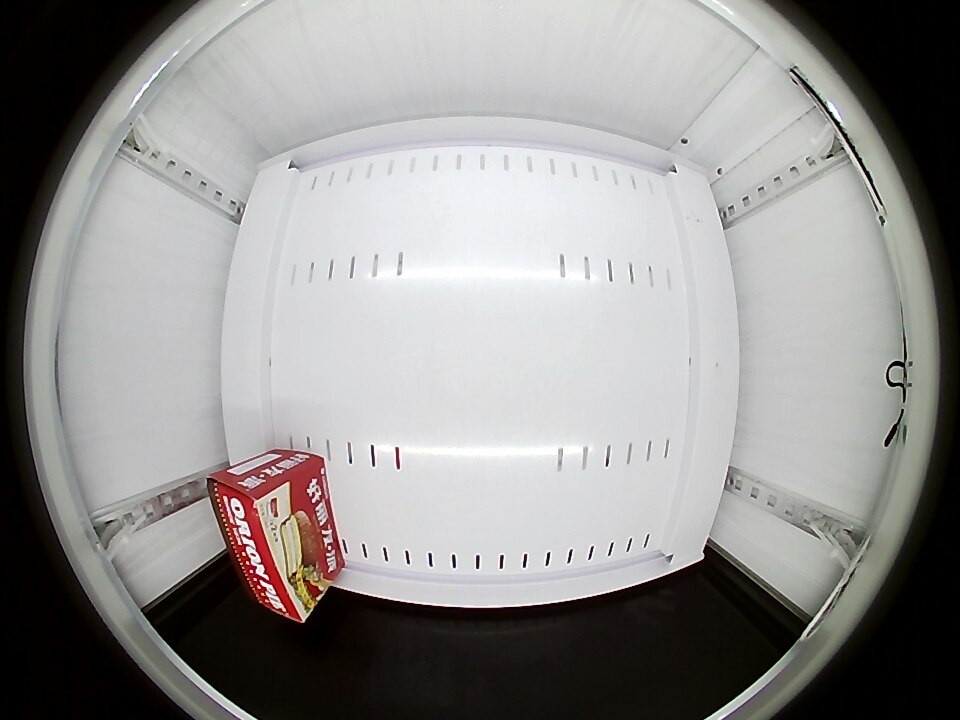haoliyou: (208, 461, 327, 621)
